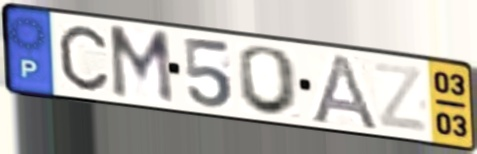5: (181, 35, 236, 111)
A: (307, 51, 381, 133)
C: (56, 22, 111, 93)
M: (105, 23, 177, 108)
O: (236, 43, 302, 119)
Z: (370, 59, 431, 136)
